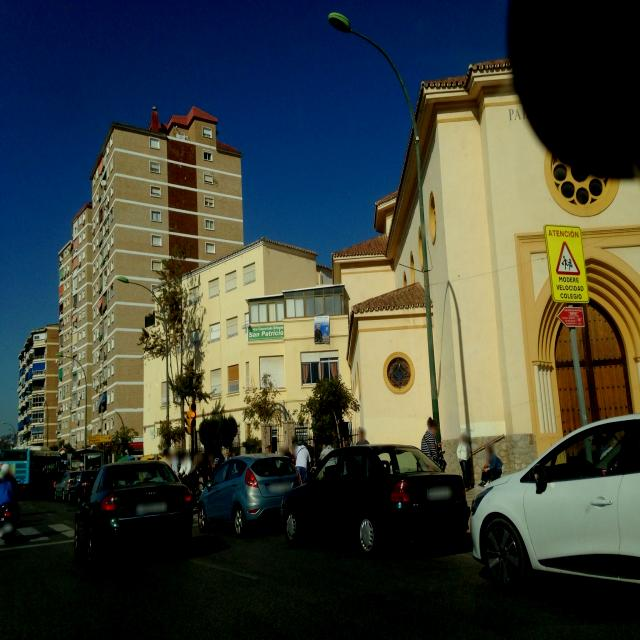bike: (0, 492, 22, 544)
car: (468, 410, 640, 604), (278, 443, 472, 561), (73, 457, 193, 567), (196, 453, 302, 538), (69, 468, 99, 506), (54, 470, 80, 502), (45, 470, 67, 500)
